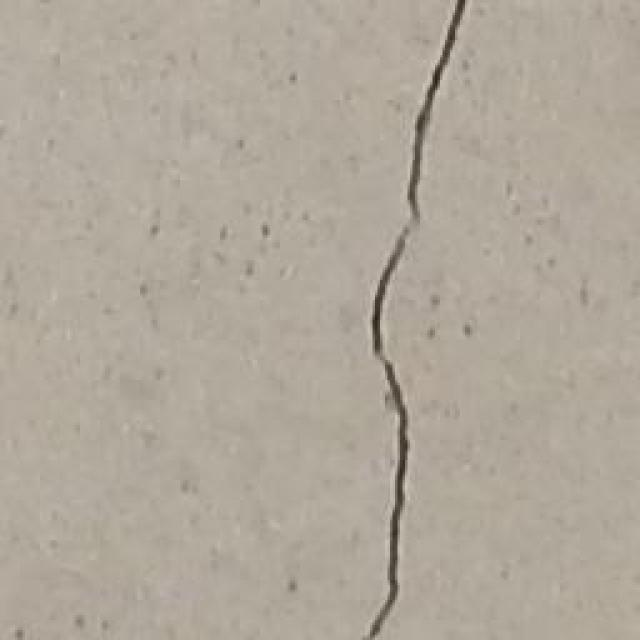concrete-crack: (365, 0, 468, 640)
